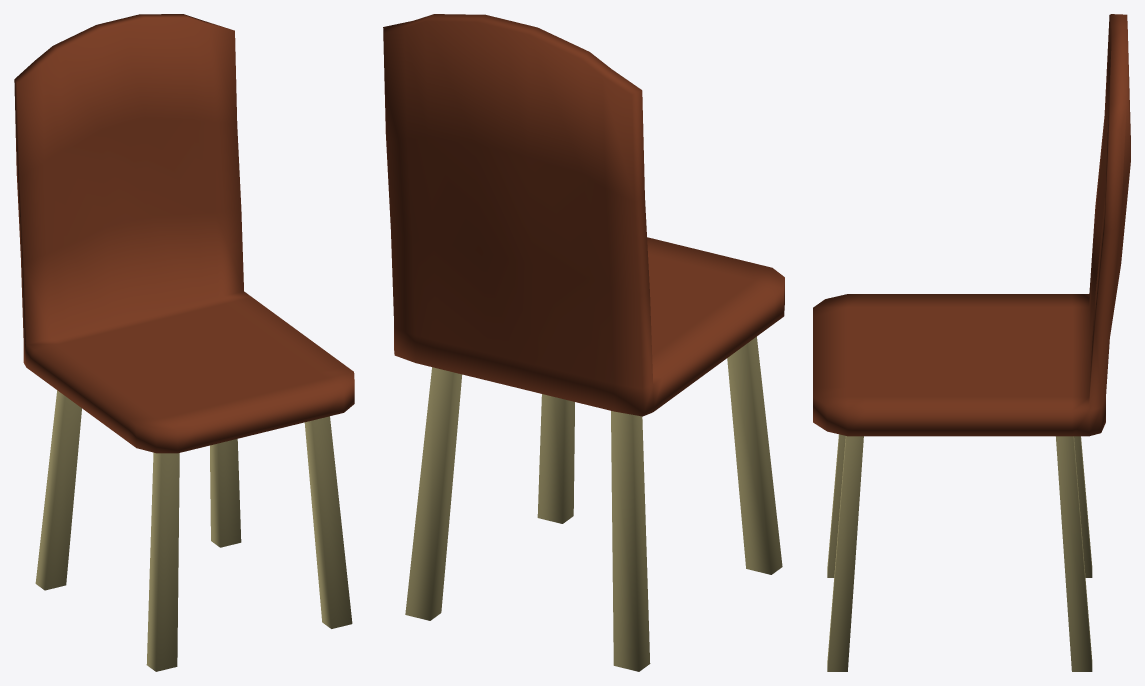
Rendered from SimpleChair.fbx.
3 views of the same model, side by side, from view 1: azimuth 30°, elevation 25°; view 2: azimuth 150°, elevation 25°; view 3: azimuth 270°, elevation 25° (orthographic). The views are drawn at different scales.
Parts seen in each view (by area): view 1: Cube; view 2: Cube; view 3: Cube.
Boxes of the visible parts, x1,y1,x2,y2 form: Cube: (14, 14, 354, 671); Cube: (383, 14, 784, 671); Cube: (813, 14, 1130, 671).
Bounding box in the file's own units: 200 × 464 × 230.
